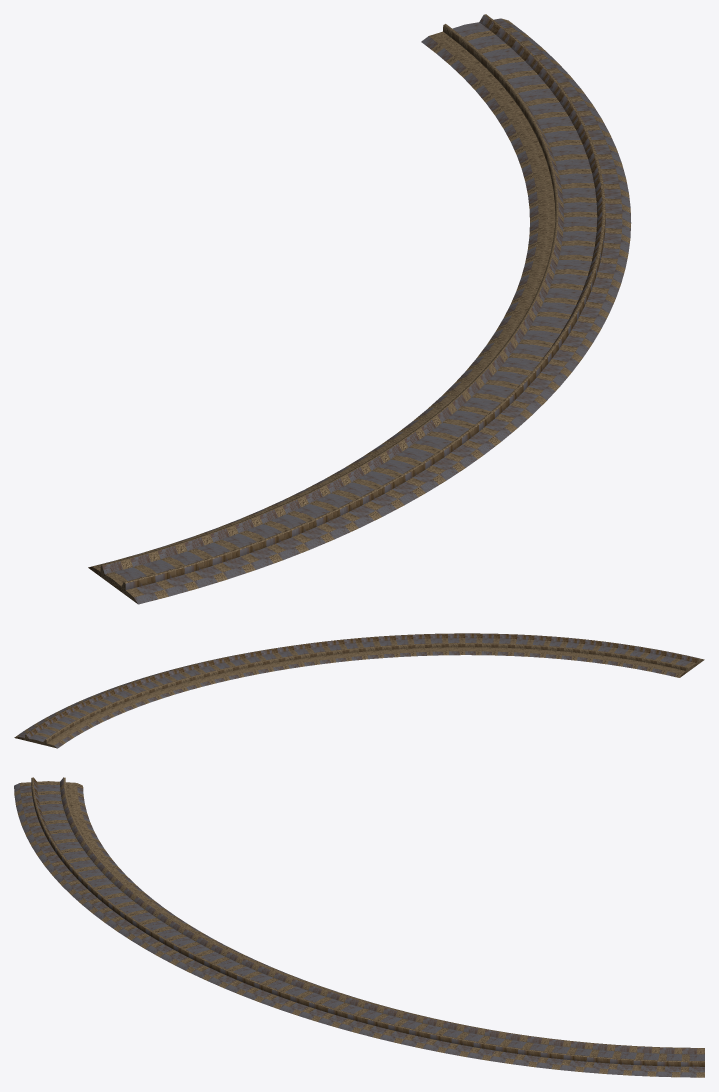
Rendered from Rail turn 90 to right long_LOD2.fbx.
The picture shows the model from 3 angles, top to bottom: view 1: azimuth 30°, elevation 25°; view 2: azimuth 150°, elevation 25°; view 3: azimuth 270°, elevation 25°; orthographic projection. The views are drawn at different scales.
Parts seen in each view (by area): view 1: Rail_turn_90_to_right_long; view 2: Rail_turn_90_to_right_long; view 3: Rail_turn_90_to_right_long.
Boxes of the visible parts, x1,y1,x2,y2 form: Rail_turn_90_to_right_long: (88, 14, 631, 604); Rail_turn_90_to_right_long: (14, 633, 704, 748); Rail_turn_90_to_right_long: (14, 777, 704, 1077).
Size of the model in its own units: 1000 by 13.15 by 1000.
1 material, 1 textured.
